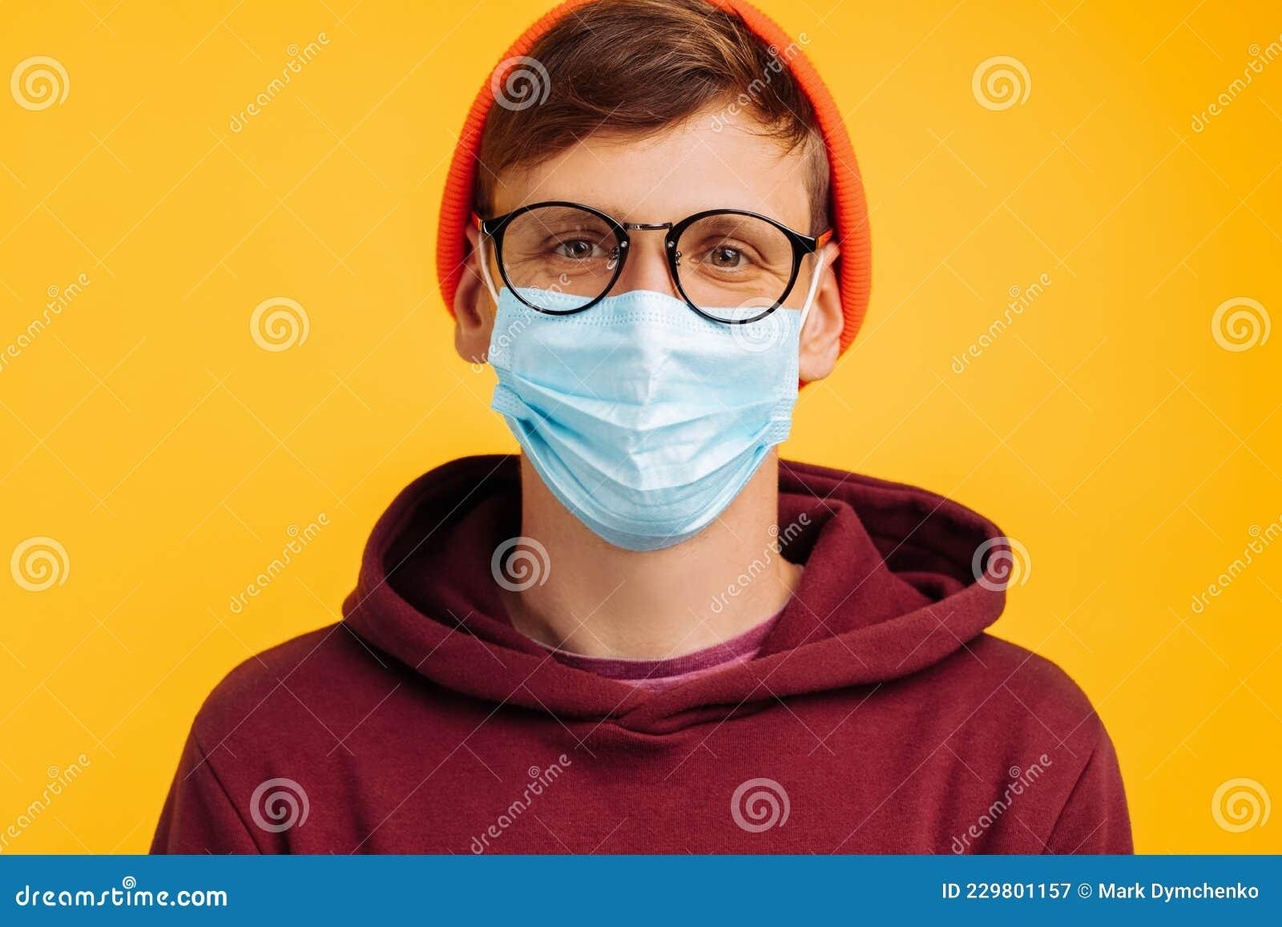cap: (411, 0, 921, 379)
mask: (473, 280, 828, 561)
sunglasses: (489, 192, 817, 342)
